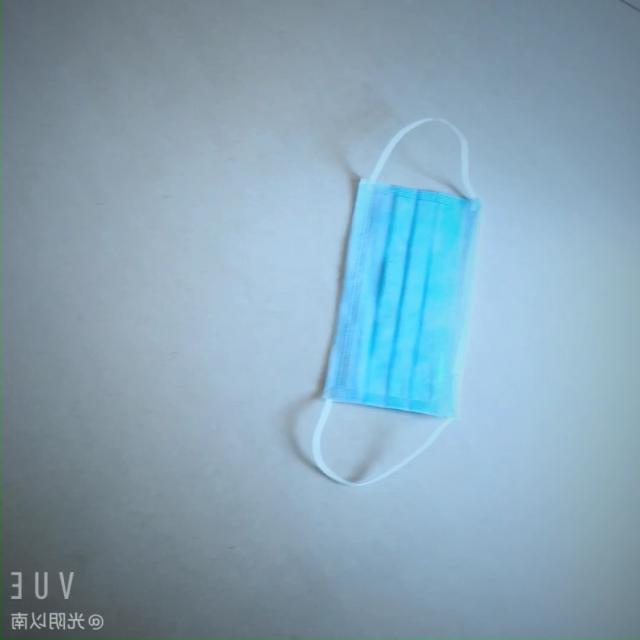face mask: (318, 170, 476, 426)
